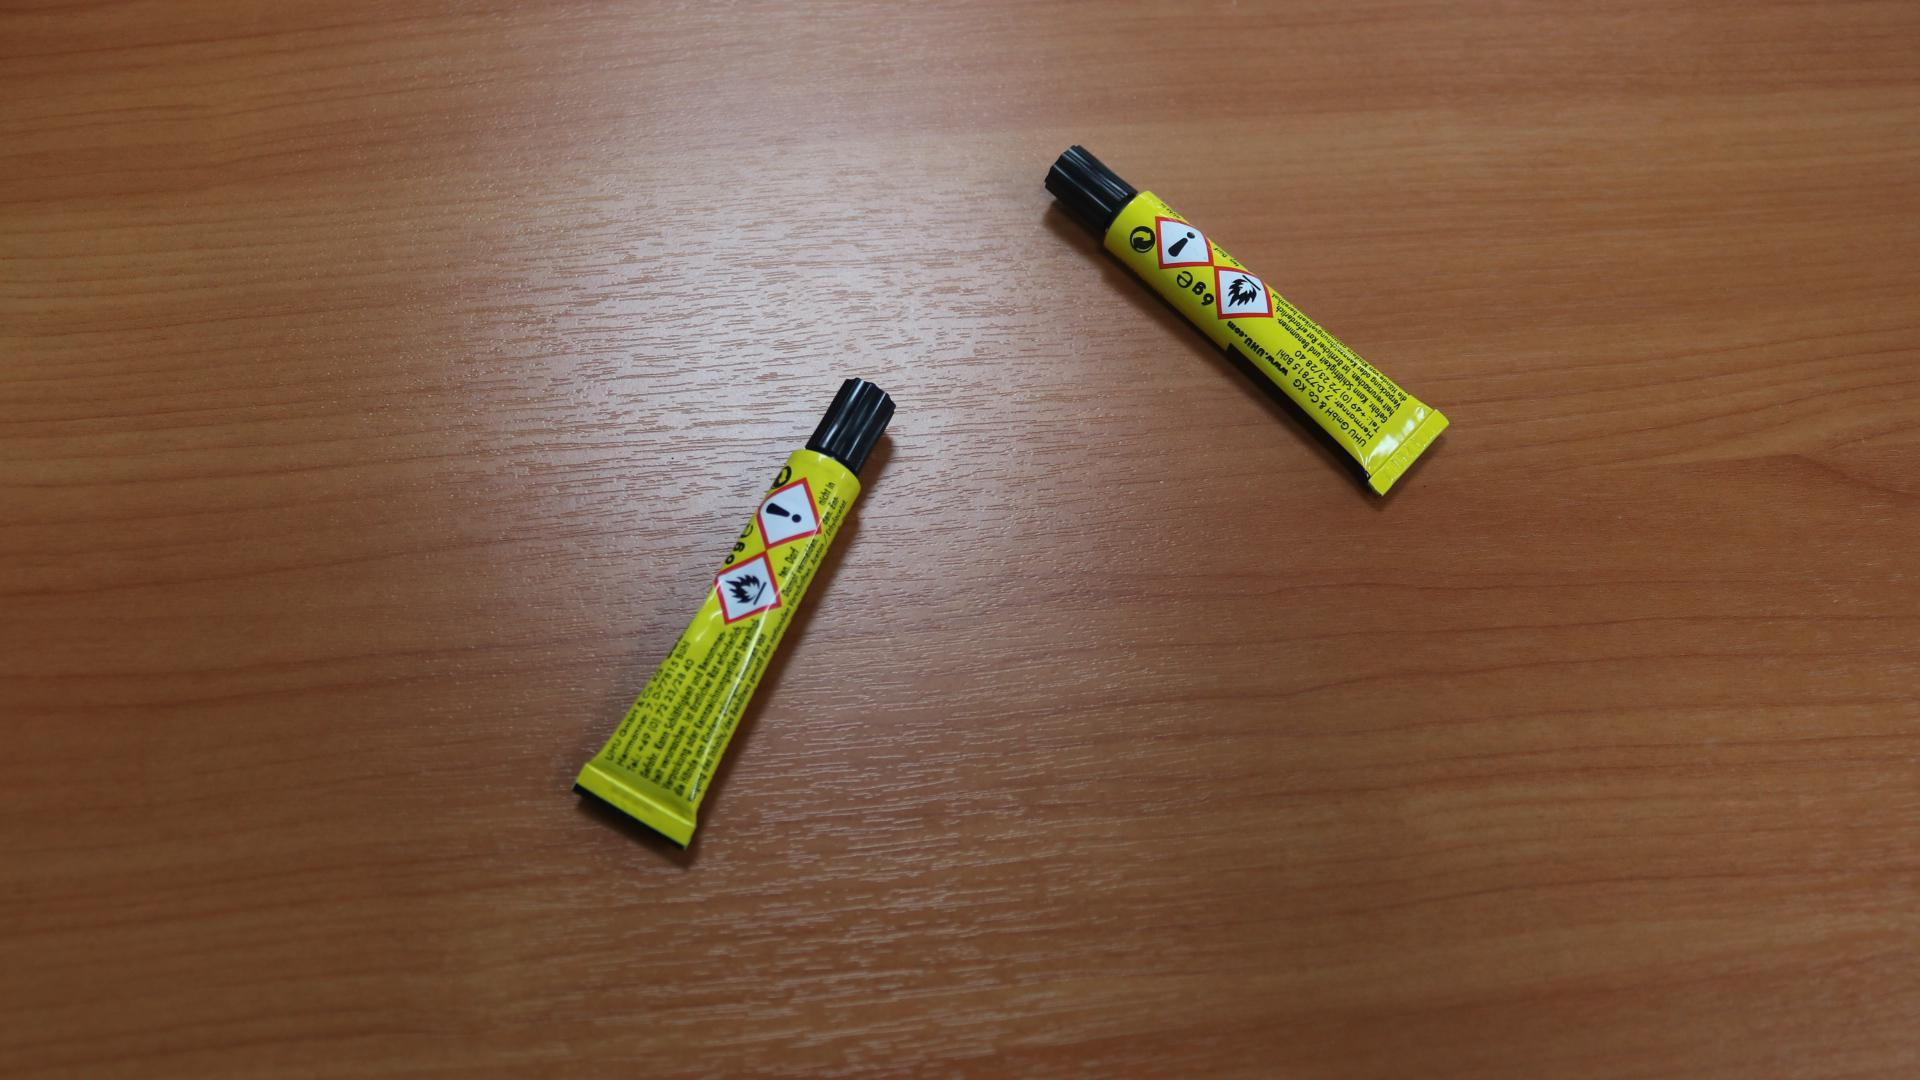Head: (1086, 178, 1099, 190), (850, 414, 862, 426)
Tail: (631, 798, 646, 815), (1402, 446, 1416, 459)
Tube: (570, 378, 897, 851), (1044, 142, 1450, 498)
